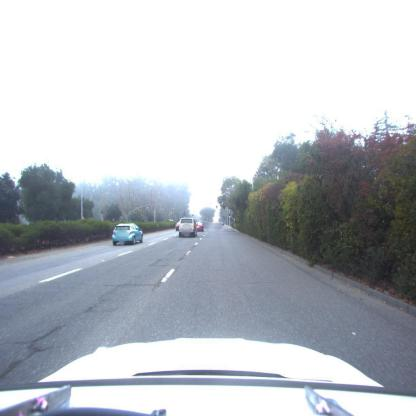car: (113, 224, 145, 247), (178, 217, 198, 238), (194, 218, 206, 233), (173, 220, 182, 233)
traffic light: (215, 204, 218, 210), (229, 213, 231, 219), (233, 212, 234, 218)
